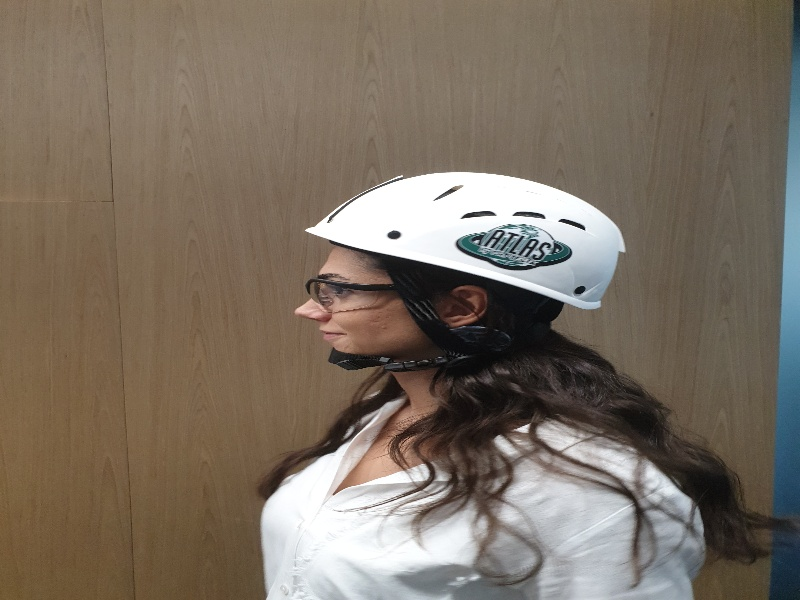Baret: (304, 171, 626, 291)
Gozluk: (304, 272, 418, 307)
